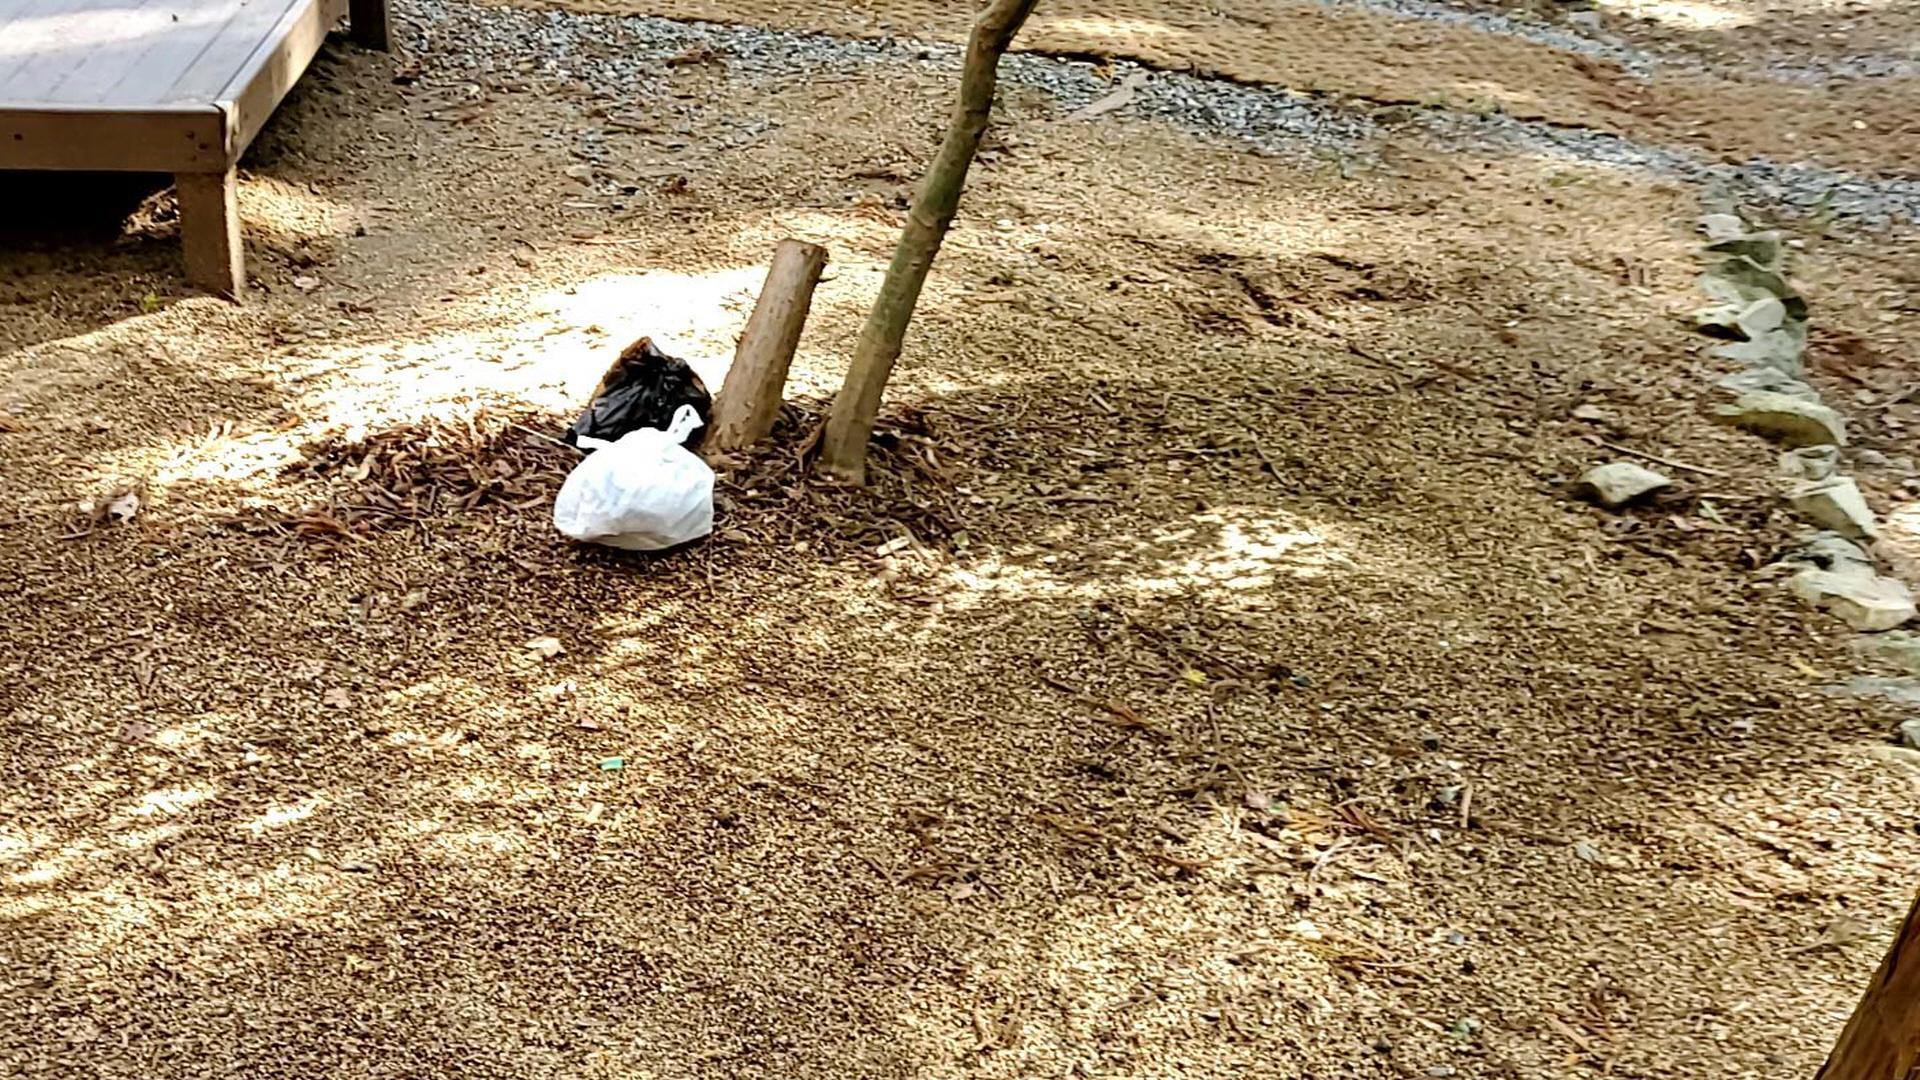black_bag: (564, 338, 715, 463)
white_bag: (545, 400, 723, 555)
